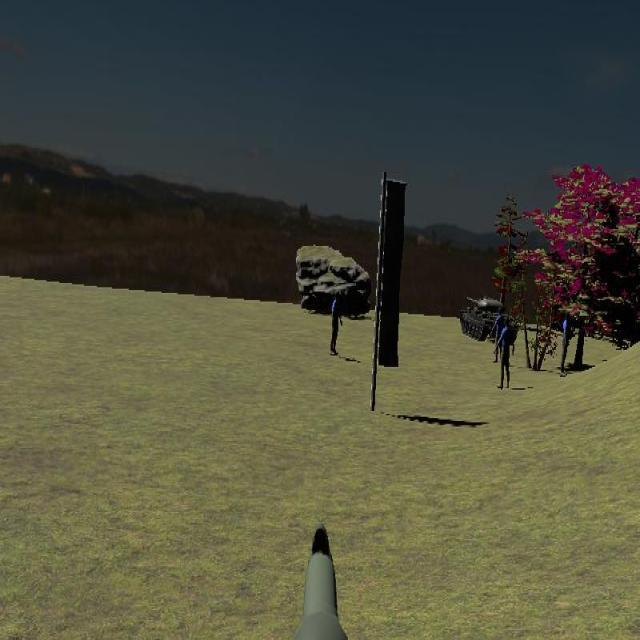Tank: (457, 295, 518, 342)
